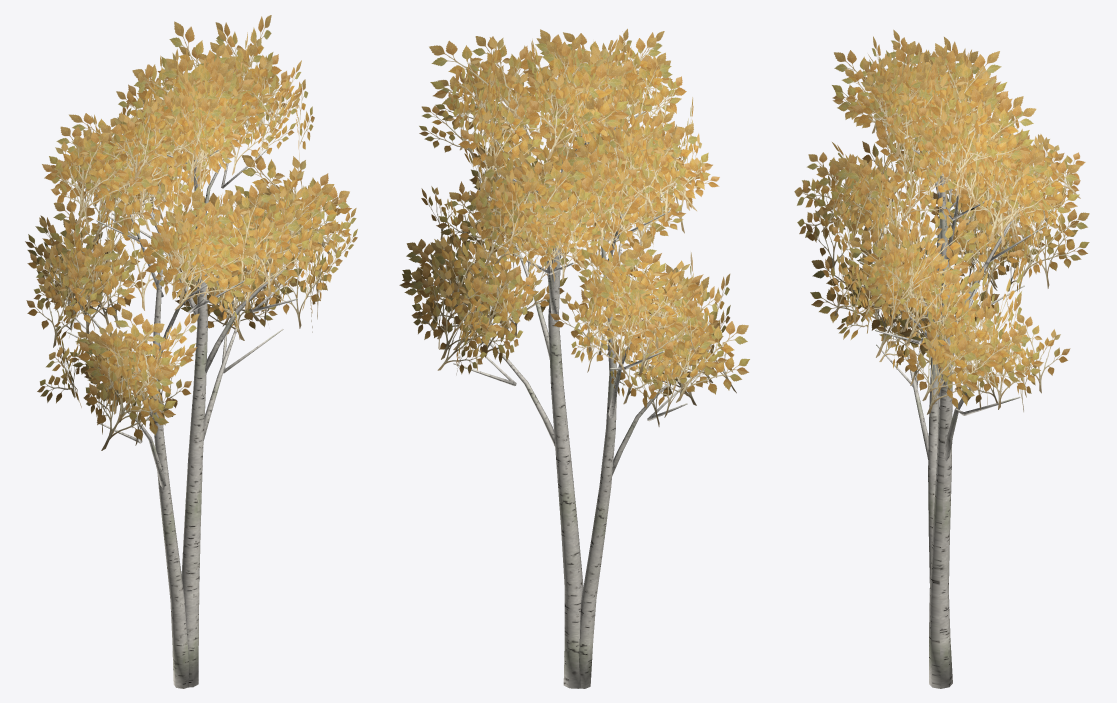
File: tree_birch_autumn.glb
3 views of the same model, side by side, from view 1: azimuth 30°, elevation 25°; view 2: azimuth 150°, elevation 25°; view 3: azimuth 270°, elevation 25° (orthographic). The views are drawn at different scales.
Parts seen in each view (by area): view 1: TreeCanopy_Birch, TreeBark_Birch; view 2: TreeCanopy_Birch, TreeBark_Birch; view 3: TreeCanopy_Birch, TreeBark_Birch.
Part boxes in pixels (<box>): TreeCanopy_Birch: <box>25,15,357,450</box>; TreeBark_Birch: <box>67,148,297,688</box>; TreeCanopy_Birch: <box>399,28,749,426</box>; TreeBark_Birch: <box>453,111,689,688</box>; TreeCanopy_Birch: <box>794,29,1089,414</box>; TreeBark_Birch: <box>848,122,1044,688</box>.
Bounding box in the file's own units: 4.49 × 8.59 × 3.78.
Materials: 2 (2 with a texture image).
